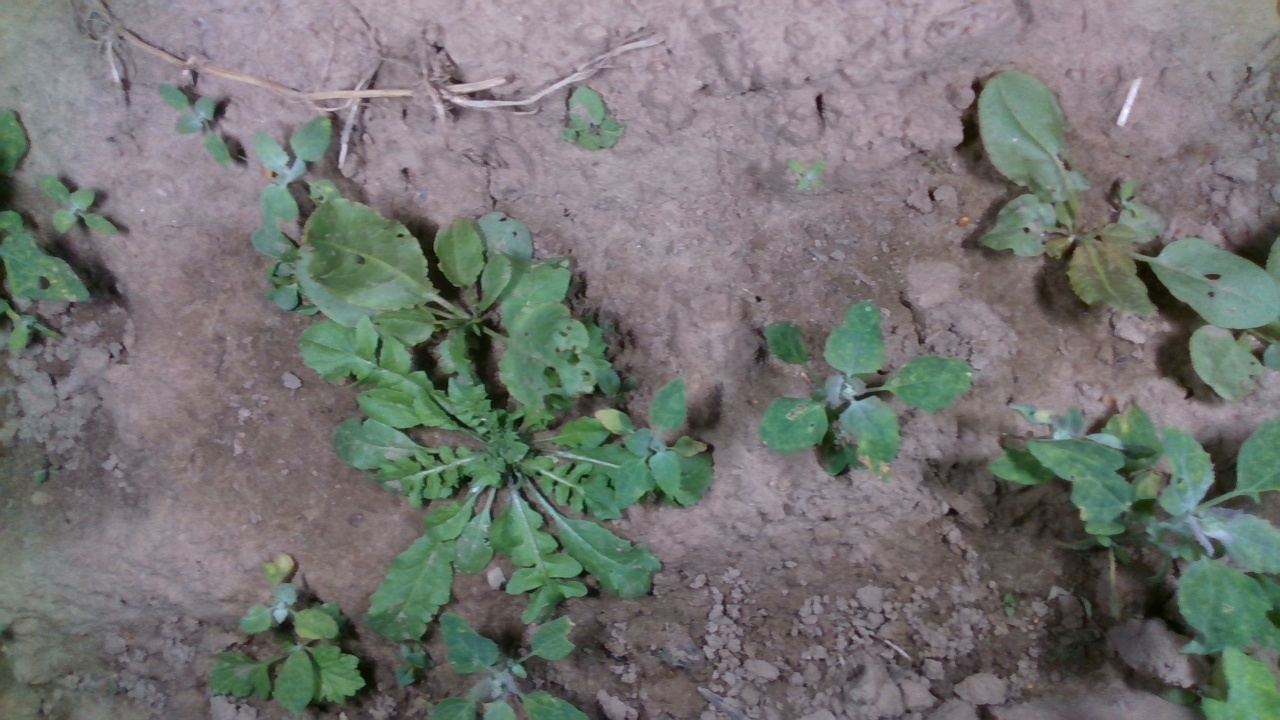weed: (787, 155, 830, 198)
